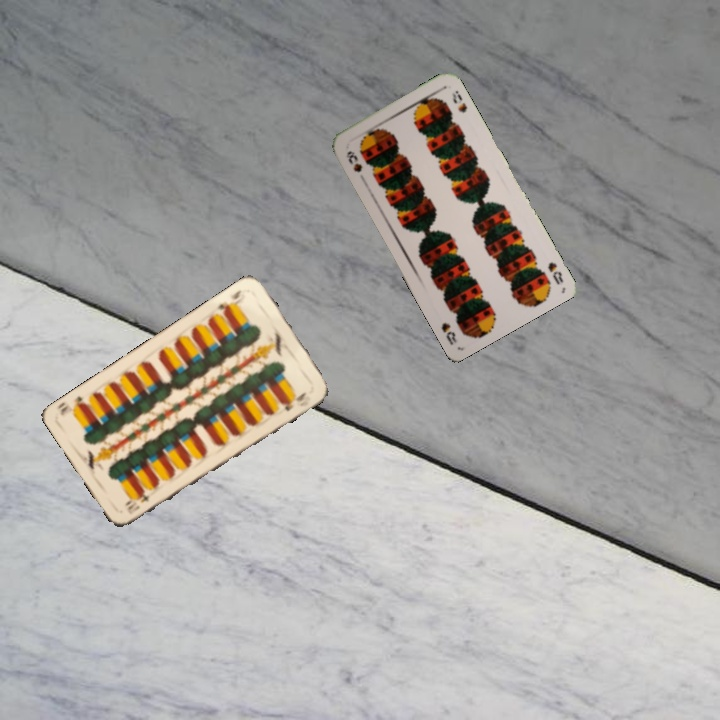E10: (213, 286, 245, 316), (123, 491, 152, 517)
S8: (342, 147, 365, 175), (544, 258, 566, 287)
